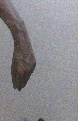hand: (9, 30, 37, 93)
